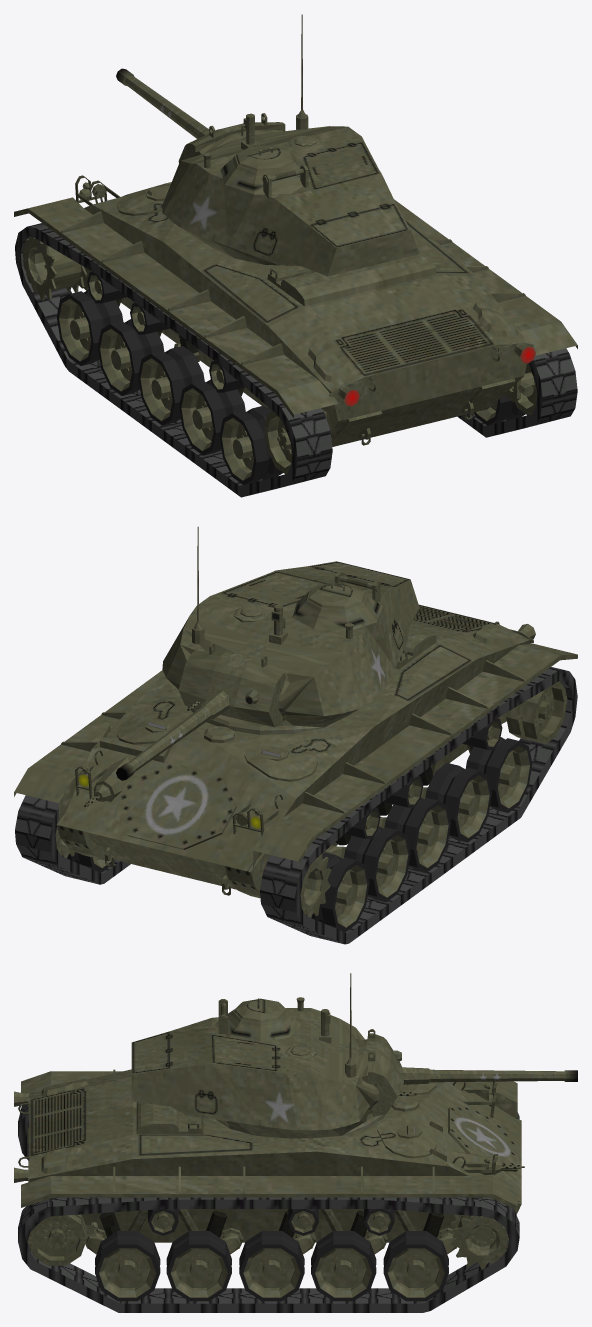
File: us_m24_tank.glb
3 renders of one model, top to bottom at view 1: azimuth 30°, elevation 25°; view 2: azimuth 150°, elevation 25°; view 3: azimuth 270°, elevation 25°, orthographic. The views are drawn at different scales.
Parts seen in each view (by area): view 1: base, turret, tracks1, wheel_roller5, turret_top, wheel_roller3, wheel_roller1, wheel_roller4, wheel_roller2, wheel_sprocket, wheel_idler, barrel (+5 smaller); view 2: base, turret, tracks1, sleeve, turret_top, wheel_roller4, wheel_roller1, wheel_roller2, wheel_roller3, wheel_roller5, wheel_idler, wheel_sprocket (+5 smaller); view 3: base, turret, tracks1, suspension, wheel_roller1, wheel_roller4, wheel_roller3, wheel_roller2, wheel_roller5, turret_top, sleeve, wheel_idler (+5 smaller).
Boxes of the visible parts, x1,y1,x2,y2 form: base: [14, 175, 577, 446]; turret: [162, 114, 419, 276]; tracks1: [15, 223, 577, 497]; wheel_roller5: [219, 394, 525, 485]; turret_top: [203, 14, 310, 199]; wheel_roller3: [138, 346, 204, 425]; wheel_roller1: [56, 289, 123, 365]; wheel_roller4: [179, 379, 245, 455]; wheel_roller2: [97, 319, 164, 395]; wheel_sprocket: [22, 236, 87, 300]; wheel_idler: [264, 363, 537, 474]; barrel: [116, 68, 206, 138]; base: [14, 604, 577, 898]; turret: [162, 561, 419, 734]; tracks1: [15, 667, 577, 944]; sleeve: [178, 642, 285, 727]; turret_top: [193, 526, 382, 638]; wheel_roller4: [425, 763, 491, 842]; wheel_roller1: [67, 852, 369, 932]; wheel_roller2: [344, 826, 410, 902]; wheel_roller3: [384, 797, 450, 872]; wheel_roller5: [465, 737, 532, 812]; wheel_idler: [506, 681, 567, 743]; wheel_sprocket: [55, 807, 331, 917]; base: [14, 1069, 521, 1242]; turret: [131, 1008, 385, 1138]; tracks1: [18, 1105, 519, 1312]; suspension: [85, 1209, 456, 1254]; wheel_roller1: [383, 1231, 448, 1301]; wheel_roller4: [166, 1231, 231, 1301]; wheel_roller3: [239, 1231, 304, 1301]; wheel_roller2: [311, 1231, 376, 1301]; wheel_roller5: [95, 1231, 160, 1301]; turret_top: [215, 973, 354, 1064]; sleeve: [367, 1029, 430, 1116]; wheel_idler: [27, 1214, 86, 1265].
Bounding box in the file's own units: 2.83 × 3.24 × 5.5.
1 material, 1 textured.
